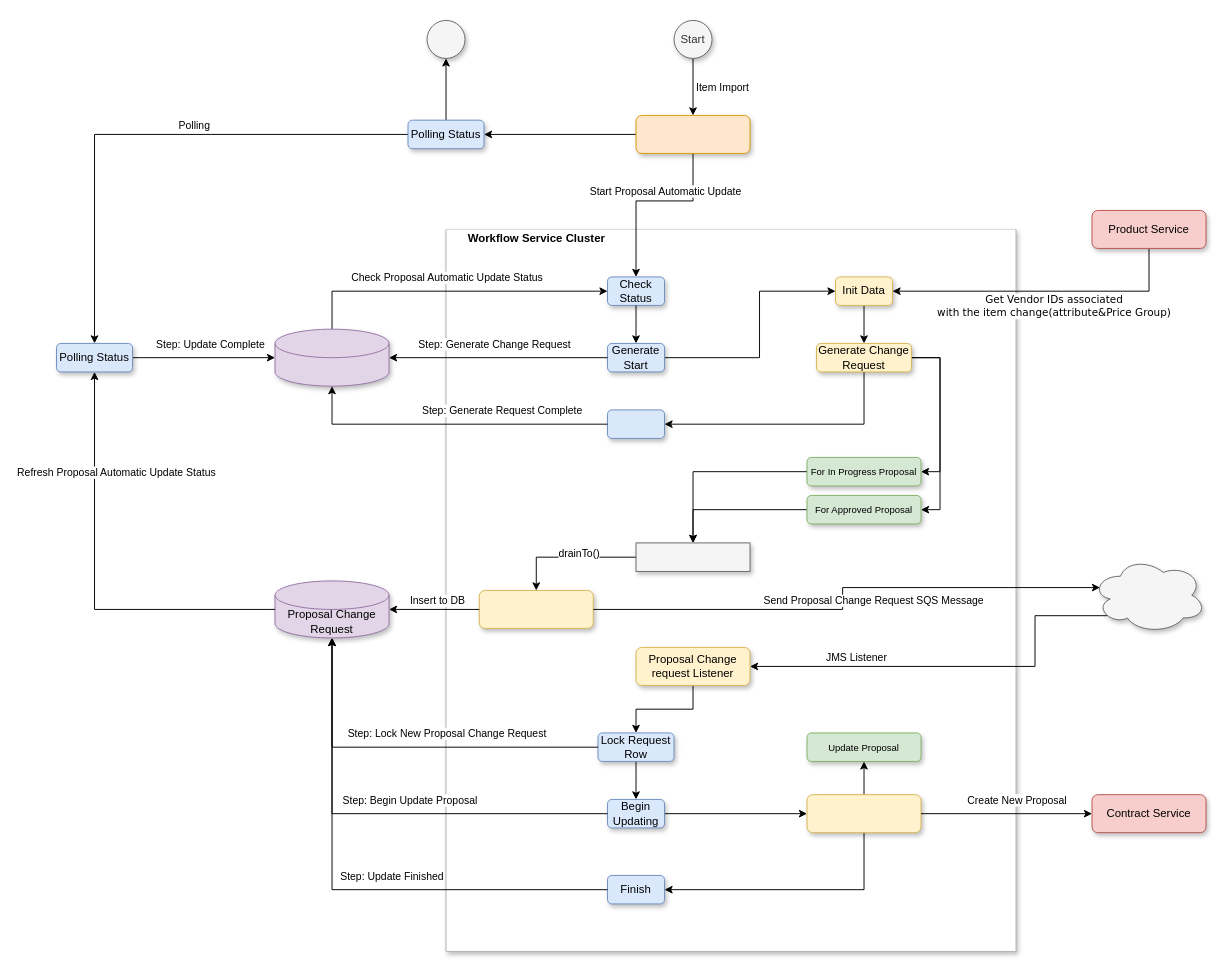
This 1228x975 diagram has some shape labels left out. Here are the shapes that lost their labels. From the top down, the centre of each, then its label:
point 446,40: End
point 693,135: Data Mart Service
point 332,358: Proposal Automatic Update Status
point 636,425: Complete
point 693,558: Blocking Queue
point 537,610: Persist Proposal Change Request
point 1149,596: Amazon SQS
point 864,814: Generate Update Information
